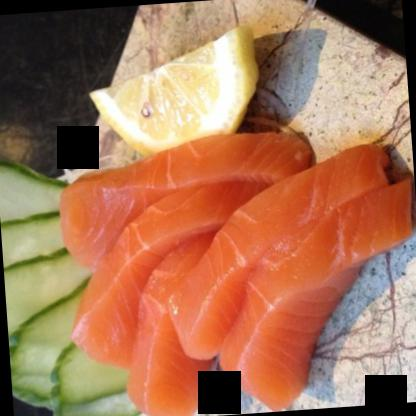lemon: (87, 30, 254, 164)
salmon: (154, 142, 403, 358), (204, 173, 415, 412), (62, 178, 286, 366), (52, 134, 311, 262), (120, 230, 242, 415)
